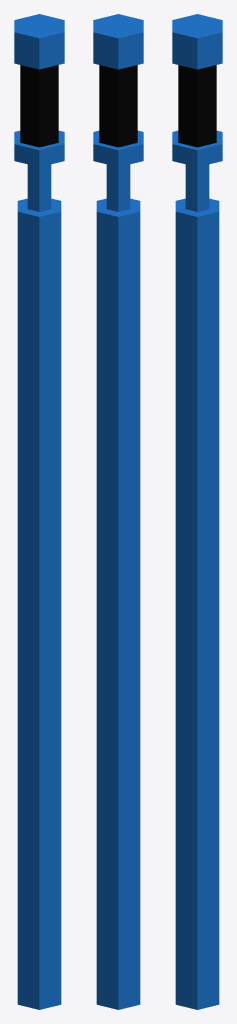
Rendered from T_street_lamp1.fbx.
3 views of the same model, side by side, from view 1: azimuth 90°, elevation 25°; view 2: azimuth 150°, elevation 25°; view 3: azimuth 270°, elevation 25° (orthographic).
Visible parts, largest first — view 1: street_lamp1; view 2: street_lamp1; view 3: street_lamp1.
Part boxes in pixels (left/top/right/bottom): street_lamp1: left=14, top=14, right=64, bottom=1009; street_lamp1: left=93, top=14, right=143, bottom=1009; street_lamp1: left=172, top=14, right=222, bottom=1009.
Size of the model in its own units: 13.2 by 245 by 11.43.
